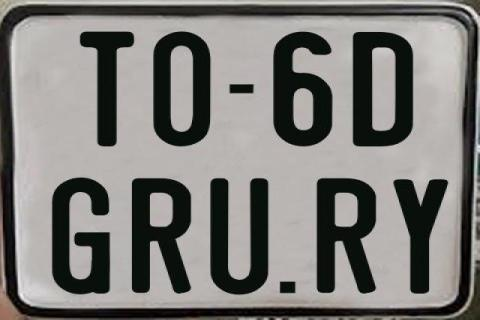0: (273, 30, 338, 150), (152, 31, 212, 147)
D: (350, 32, 414, 148)
G: (51, 176, 112, 297)
R: (131, 178, 195, 298), (314, 177, 374, 297)
T: (80, 31, 136, 151)
U: (210, 177, 274, 297)
Y: (391, 178, 452, 292)
